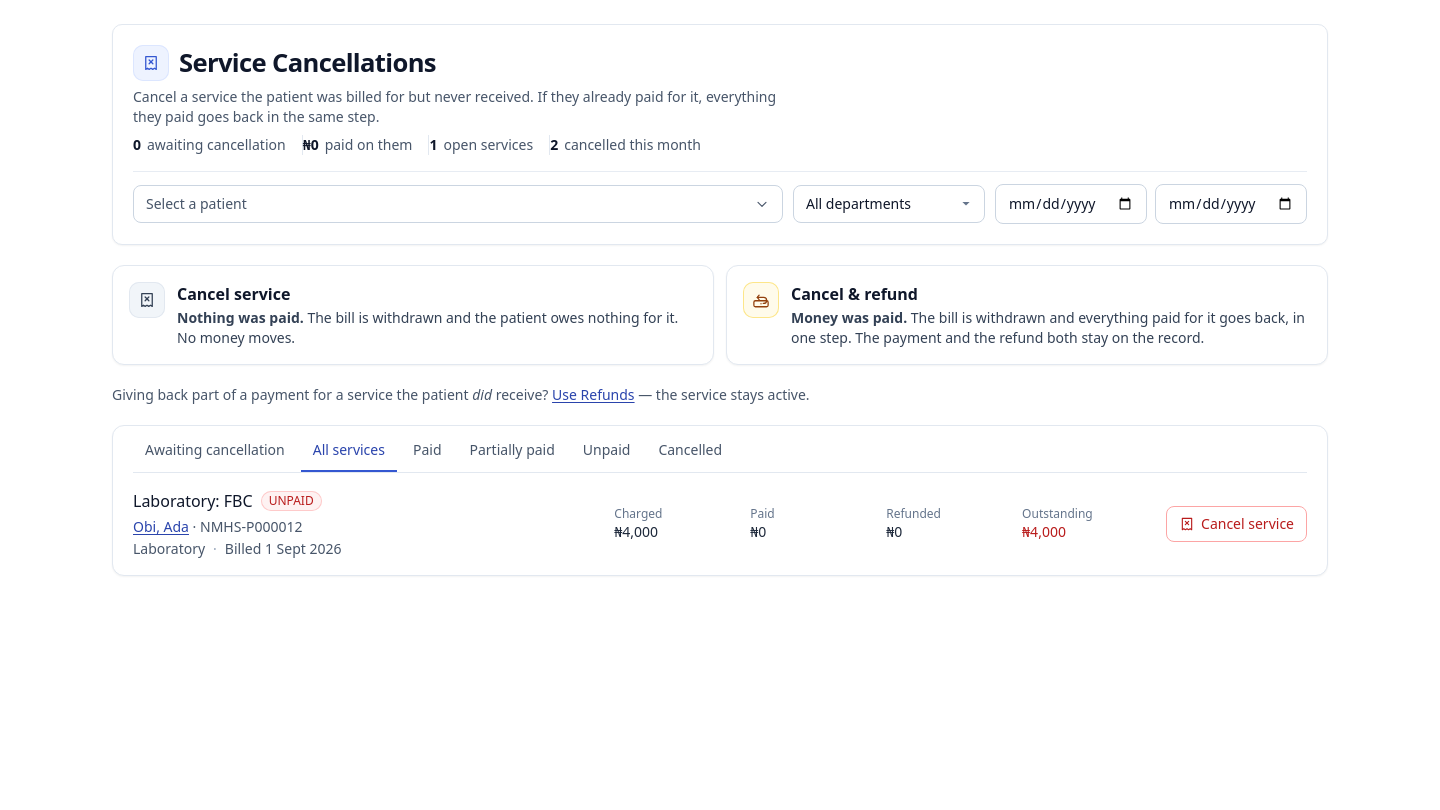
Test case: Cancel service › shows what will happen before committing, and moves no money
expect the text "Laboratory: FBC" is shown: met, box left=133, top=489, right=253, bottom=513
Click the button "Cancel service". click: (1236, 524)
box: left=1166, top=506, right=1307, bottom=542
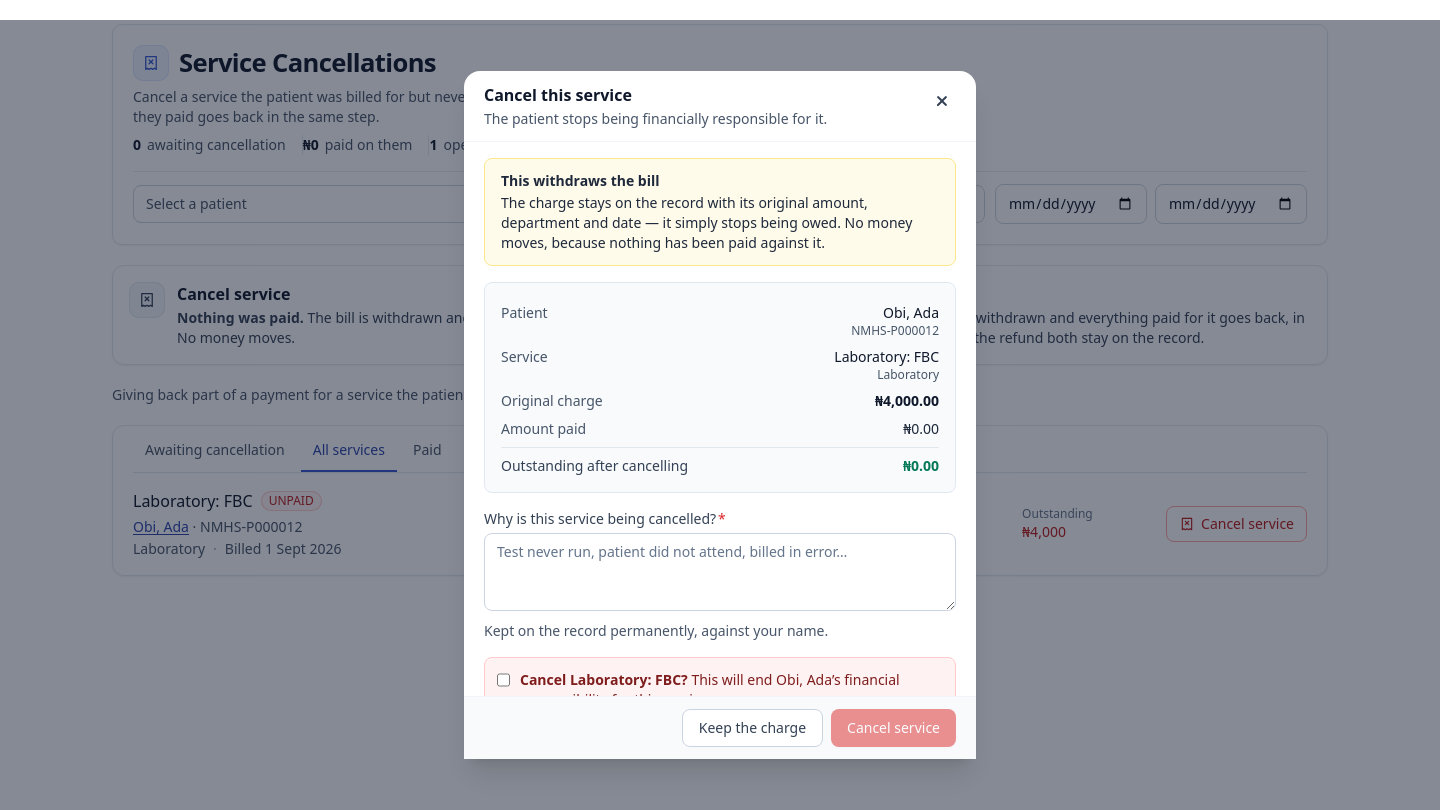
expect the text "Obi, Ada" is shown: met, box left=883, top=303, right=939, bottom=322
expect the text "NMHS-P000012" is shown: met, box left=851, top=323, right=939, bottom=339
expect the text "Original charge" shows "₦4,000.00": met, box left=875, top=391, right=939, bottom=410
